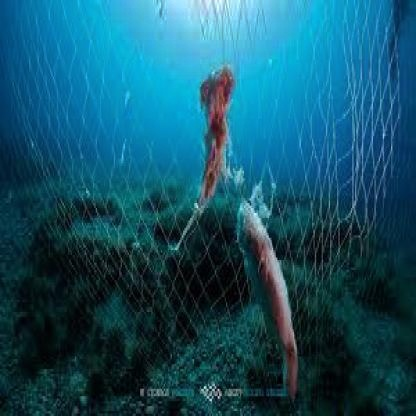net: (13, 2, 404, 379)
